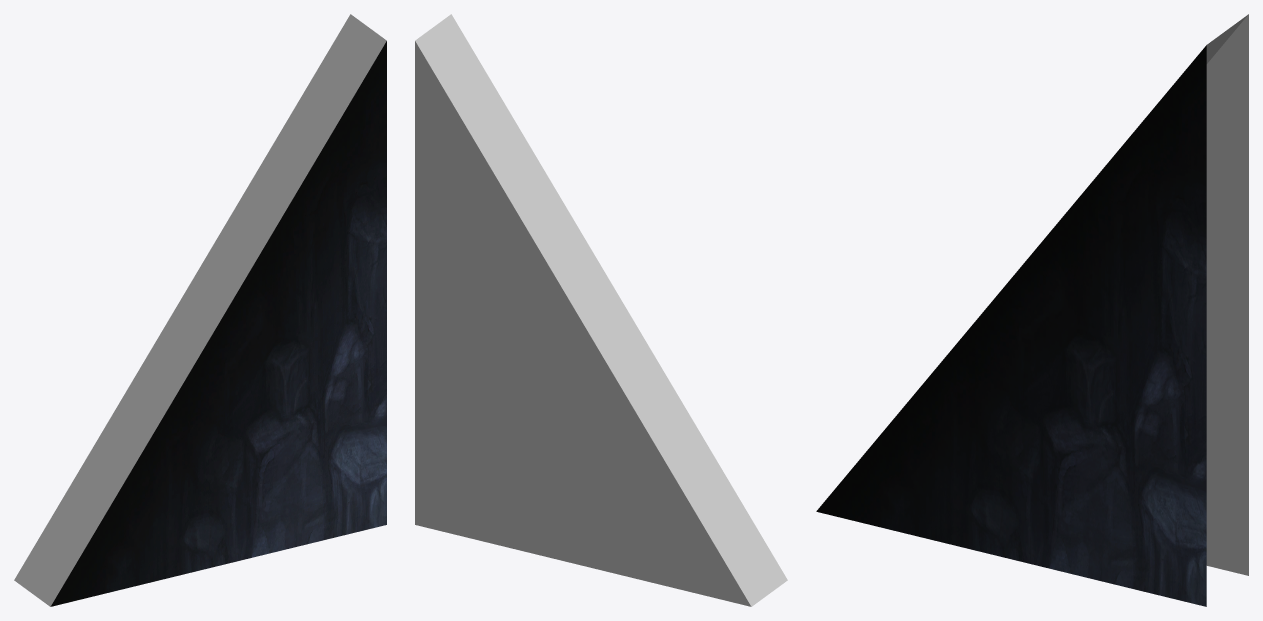
The model's file is mine_fade_transition_03.fbx.
3 views of the same model, side by side, from view 1: azimuth 30°, elevation 25°; view 2: azimuth 150°, elevation 25°; view 3: azimuth 330°, elevation 25° (orthographic). The views are drawn at different scales.
Visible parts, largest first — view 1: mine_fade_transition_03-0; view 2: mine_fade_transition_03-0; view 3: mine_fade_transition_03-0.
Boxes of the visible parts, x1,y1,x2,y2 form: mine_fade_transition_03-0: [14, 14, 386, 606]; mine_fade_transition_03-0: [415, 14, 787, 606]; mine_fade_transition_03-0: [816, 14, 1248, 606].
Size of the model in its own units: 4 by 5.5 by 0.75.
